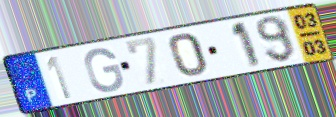0: (167, 32, 211, 78)
1: (230, 20, 263, 69), (46, 55, 74, 100)
7: (122, 34, 164, 89)
9: (255, 15, 298, 65)
G: (82, 46, 126, 94)
